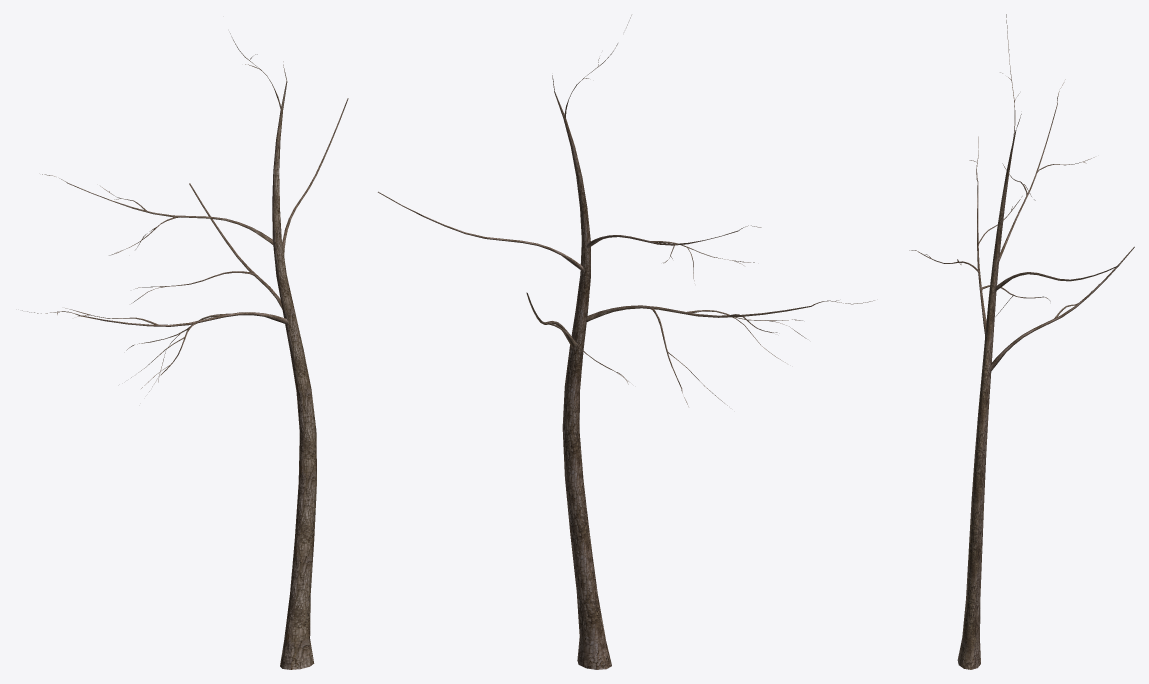
File: deadTree01.FBX
The picture shows the model from 3 angles, left to right: view 1: azimuth 30°, elevation 25°; view 2: azimuth 150°, elevation 25°; view 3: azimuth 270°, elevation 25°; orthographic projection. The views are drawn at different scales.
Visible parts, largest first — view 1: deadTree01; view 2: deadTree01; view 3: deadTree01.
Part boxes in pixels (box(x1,y1,x2,y2)): deadTree01: box(22, 33, 348, 669); deadTree01: box(378, 15, 874, 669); deadTree01: box(909, 14, 1134, 669).
Size of the model in its own units: 4.18 by 6.37 by 2.1.
Materials: 1 (1 with a texture image).
